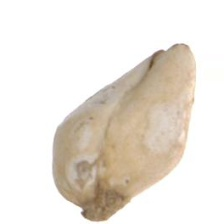L1: (77, 189, 133, 221), (148, 41, 190, 70)
L2: (51, 42, 197, 223)
